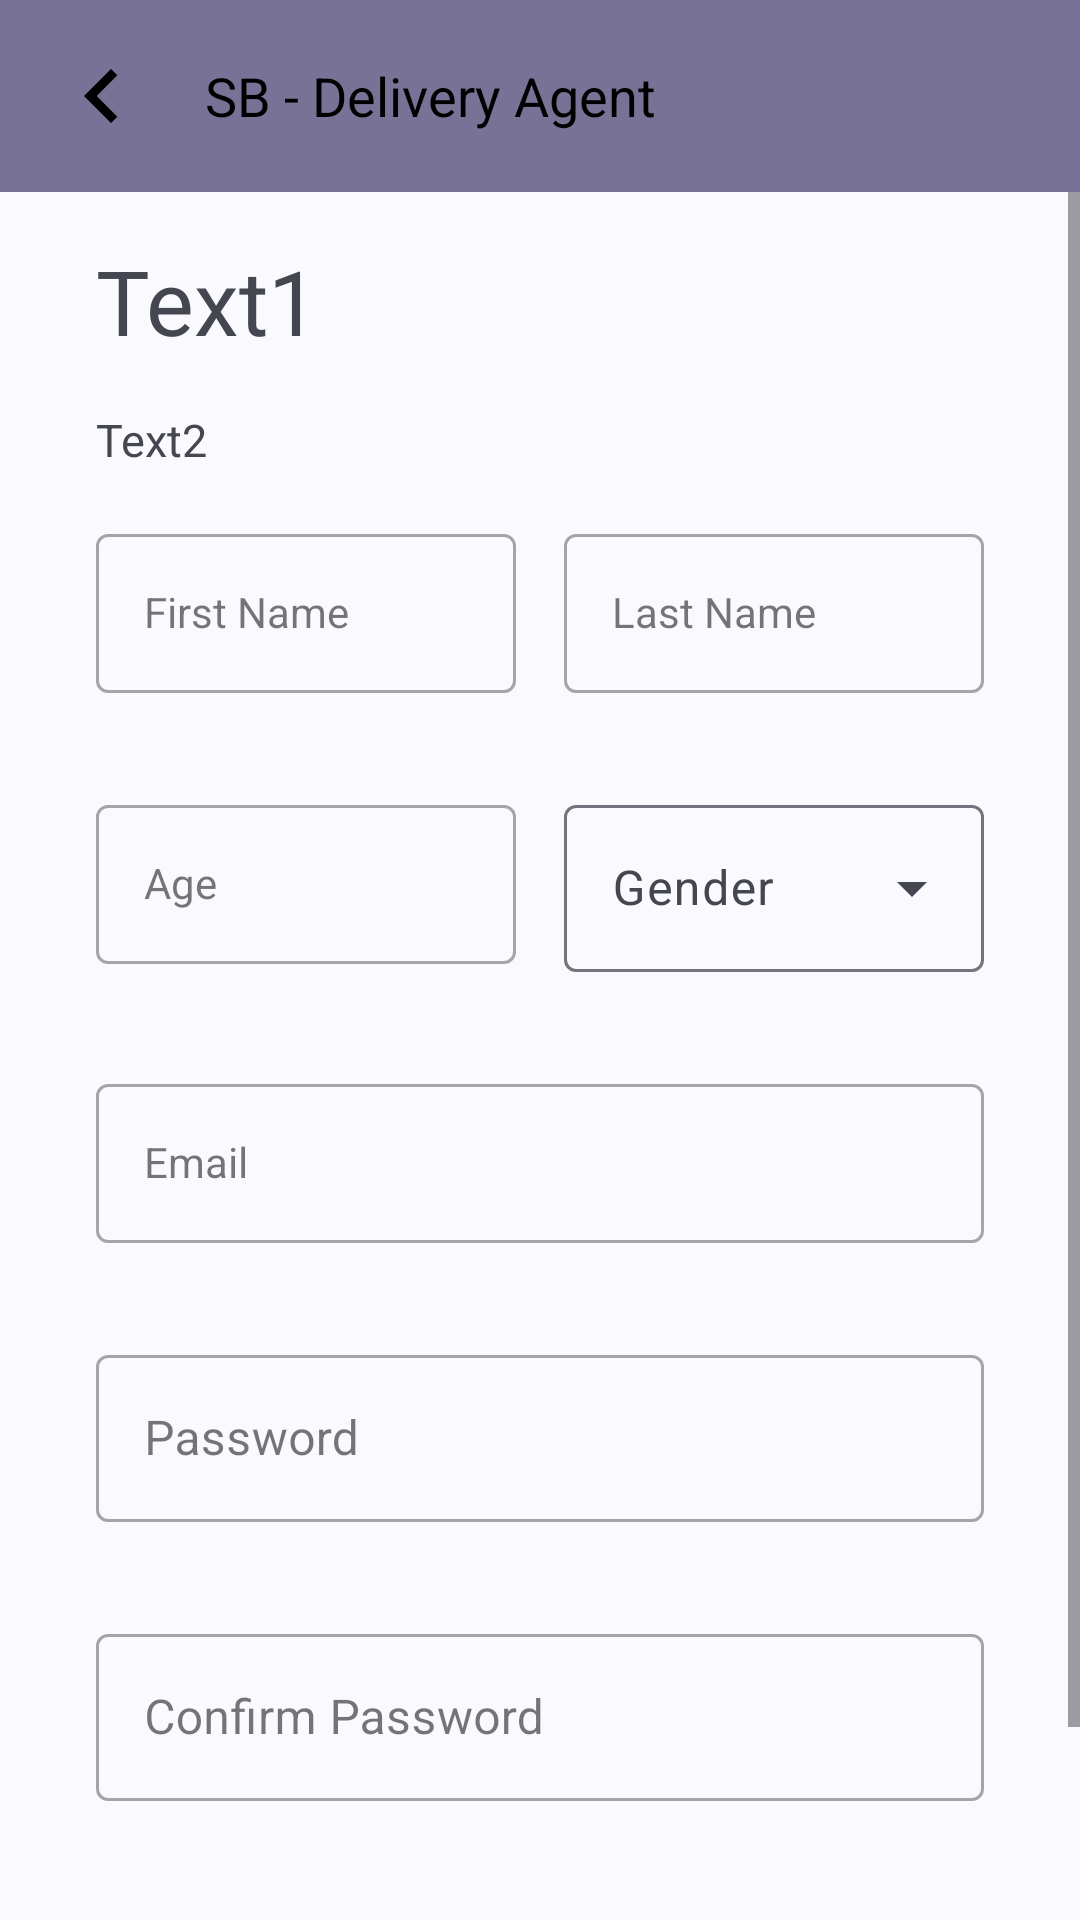

Where icons sit on this 1080*1920 app screen, as {"x1": x1, "y1": y1, "x2": x2, "y2": y2}:
chevron left: {"x1": 84, "y1": 69, "x2": 117, "y2": 123}
